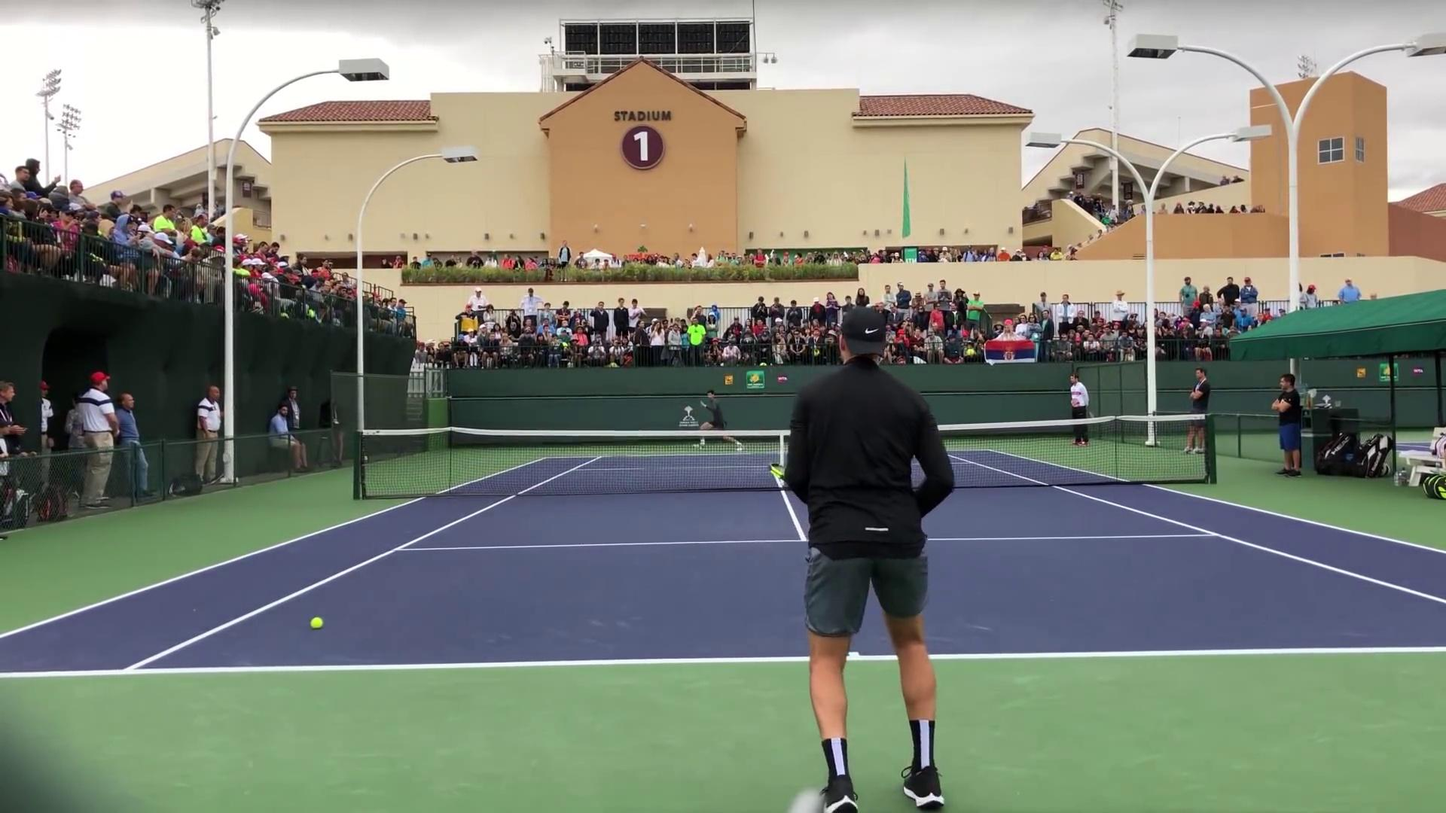ball: (309, 617, 323, 630)
